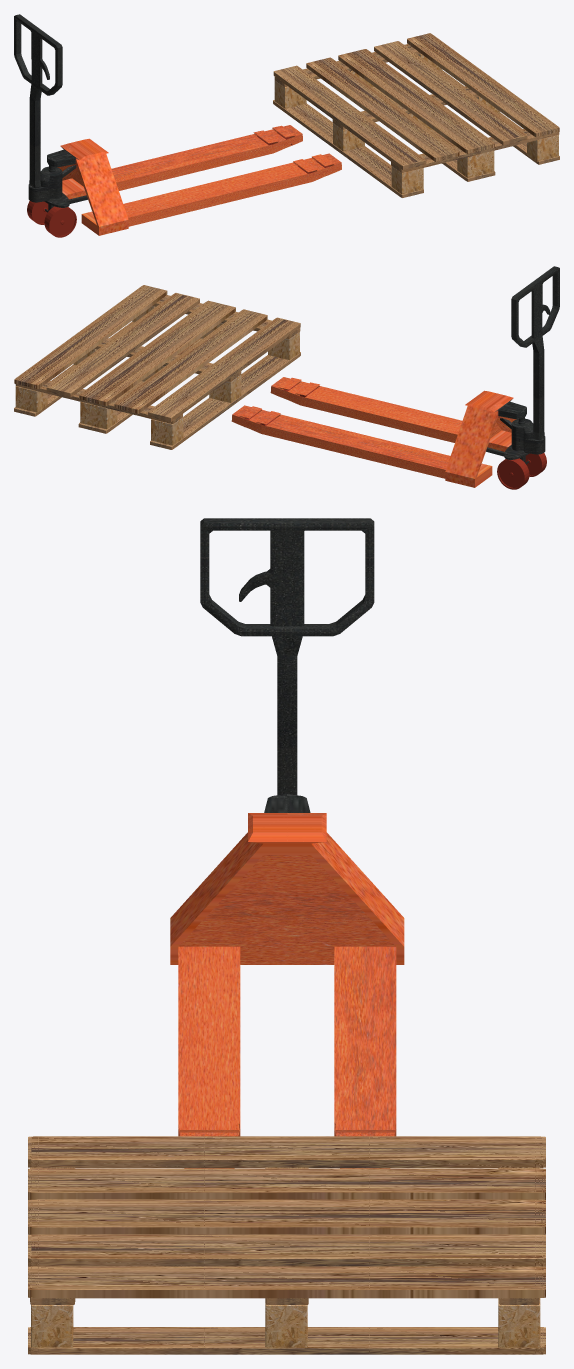
File: PALETTES.fbx
3 views of the same model, one above another, from view 1: azimuth 30°, elevation 25°; view 2: azimuth 150°, elevation 25°; view 3: azimuth 270°, elevation 25° (orthographic). The views are drawn at different scales.
Visible parts, largest first — view 1: Cube.022, Cube, Cube.002, Cylindre; view 2: Cube.022, Cube, Cube.002, Cylindre; view 3: Cube.022, Cube, Cube.002.
Part boxes in pixels (<box>): Cube.022: <box>273,33,559,197</box>; Cube: <box>28,125,341,235</box>; Cube.002: <box>14,14,62,188</box>; Cylindre: <box>27,201,76,237</box>; Cube.022: <box>14,285,300,449</box>; Cube: <box>231,377,545,487</box>; Cube.002: <box>511,266,559,440</box>; Cylindre: <box>497,453,546,489</box>; Cube.022: <box>28,1136,545,1354</box>; Cube: <box>170,794,404,1168</box>; Cube.002: <box>200,518,374,795</box>.
Size of what is drawn, in the model's own units: 243 by 101 by 117.
Materials: 6 (5 with a texture image).
